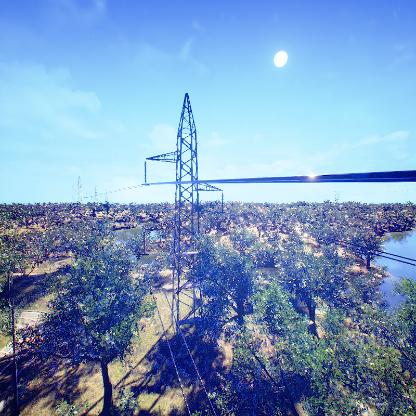tower: (142, 92, 227, 341)
